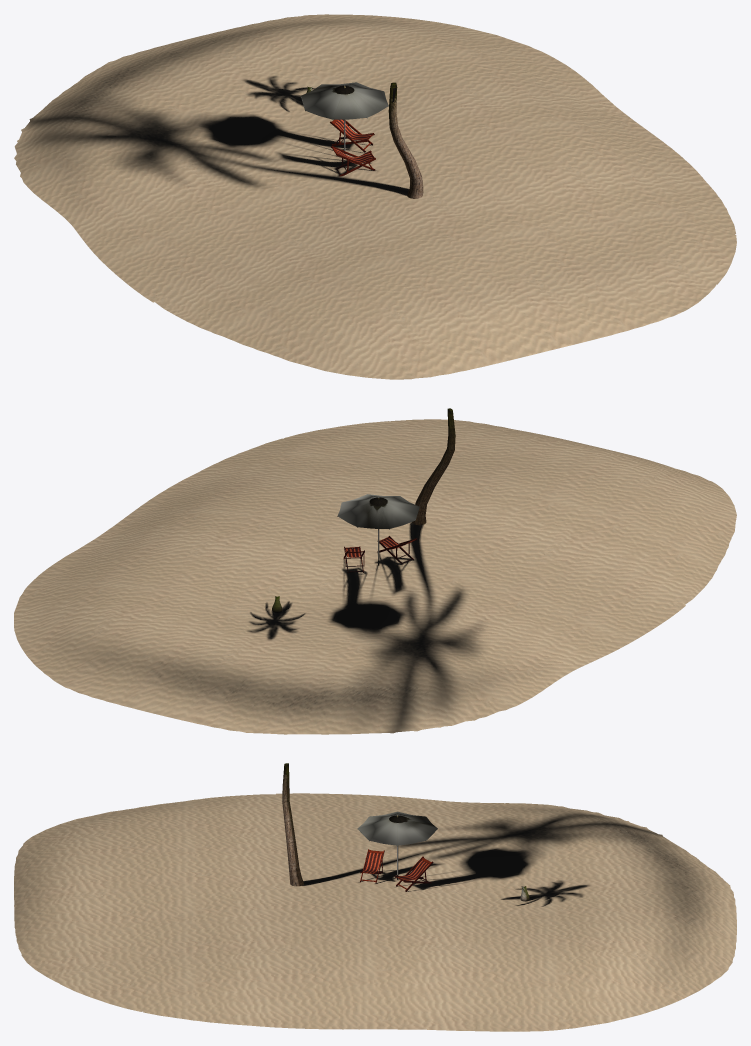
File: world_1.glb
3 views of the same model, one above another, from view 1: azimuth 30°, elevation 25°; view 2: azimuth 150°, elevation 25°; view 3: azimuth 270°, elevation 25° (orthographic). The views are drawn at different scales.
Parts seen in each view (by area): view 1: SandSm, Umbrella, PalmTreeBark, Chair2; view 2: SandSm, Umbrella, PalmTreeBark; view 3: SandSm, Umbrella, PalmTreeBark, Chair2, Chair1.
Part boxes in pixels (x1,y1,x2,y2): SandSm: (14,14,736,379); Umbrella: (300,82,388,158); PalmTreeBark: (388,82,423,198); Chair2: (330,119,374,152); SandSm: (14,419,736,734); Umbrella: (337,494,419,565); PalmTreeBark: (412,408,455,525); SandSm: (14,793,736,1031); Umbrella: (357,811,437,879); PalmTreeBark: (282,763,303,886); Chair2: (395,856,433,891); Chair1: (360,849,384,883).
Size of what is drawn, in the model's own units: 21.26 by 5.67 by 27.23.
Materials: 5 (5 with a texture image).
